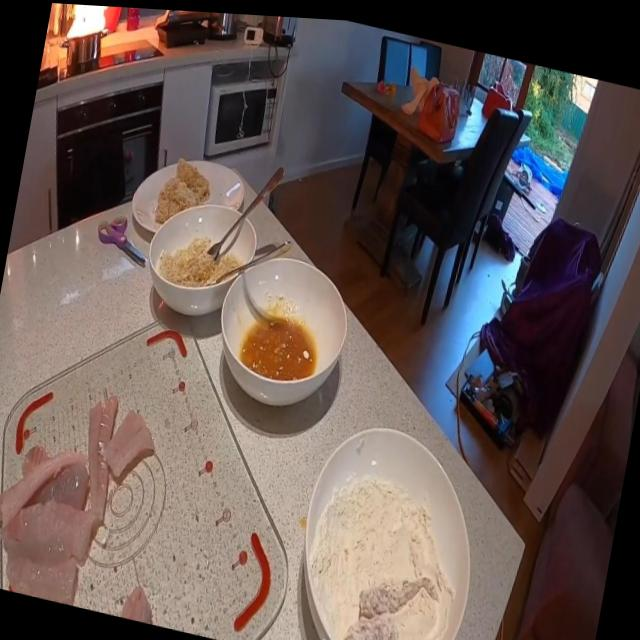fire: (58, 3, 121, 48)
